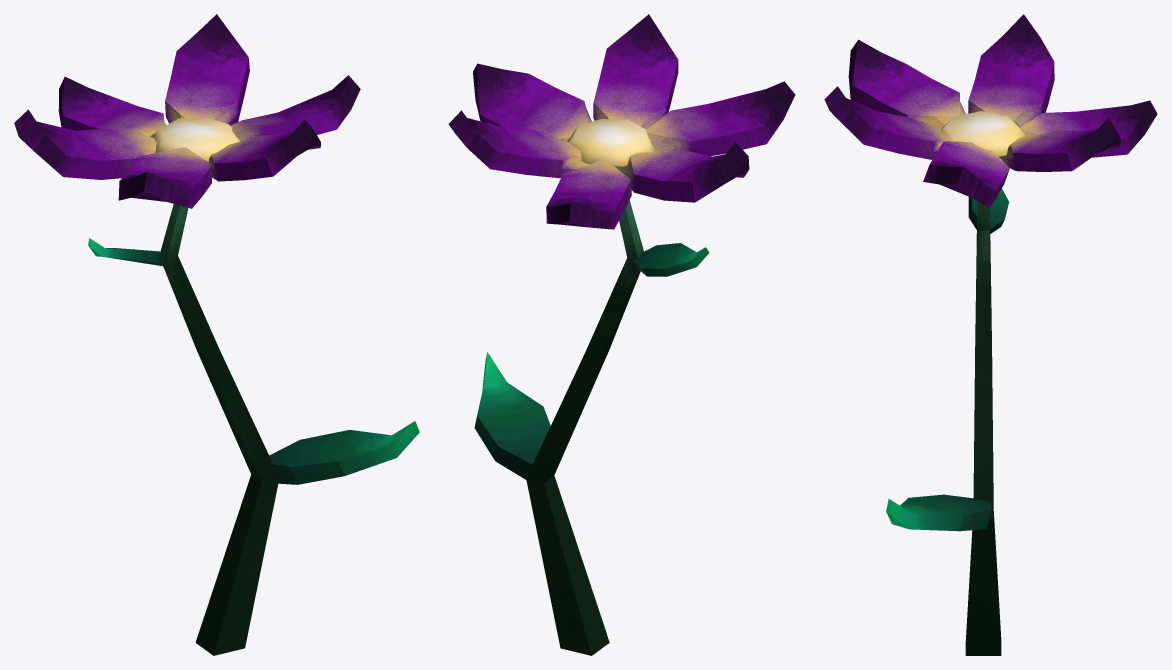
Rendered from sketchfab.obj.
The picture shows the model from 3 angles, left to right: view 1: azimuth 30°, elevation 25°; view 2: azimuth 150°, elevation 25°; view 3: azimuth 270°, elevation 25°; orthographic projection.
Parts seen in each view (by area): view 1: polySurface393 polySurface392, polySurface392 polySurface397, polySurface395, polySurface392 polySurface396; view 2: polySurface393 polySurface392, polySurface392 polySurface397, polySurface395, polySurface392 polySurface396; view 3: polySurface393 polySurface392, polySurface392 polySurface397, polySurface395, polySurface392 polySurface396.
Boxes of the visible parts, <box> form: polySurface393 polySurface392: <box>14,14,360,208</box>; polySurface392 polySurface397: <box>160,204,278,655</box>; polySurface395: <box>88,238,419,484</box>; polySurface392 polySurface396: <box>150,117,239,162</box>; polySurface393 polySurface392: <box>448,14,795,229</box>; polySurface392 polySurface397: <box>526,166,643,655</box>; polySurface395: <box>474,243,709,479</box>; polySurface392 polySurface396: <box>566,119,655,166</box>; polySurface393 polySurface392: <box>824,14,1157,208</box>; polySurface392 polySurface397: <box>965,201,1001,655</box>; polySurface395: <box>886,188,1008,531</box>; polySurface392 polySurface396: <box>941,111,1027,156</box>.
Bounding box in the file's own units: 3.03 × 4.99 × 2.66.
Materials: 4 (4 with a texture image).
